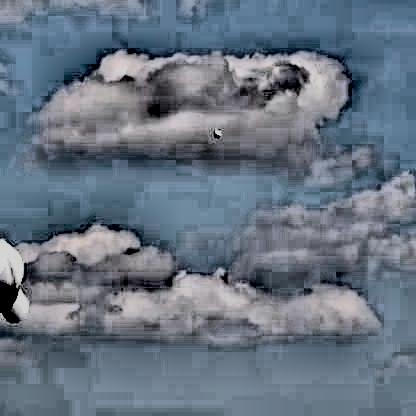golfball: (213, 128, 222, 139)
